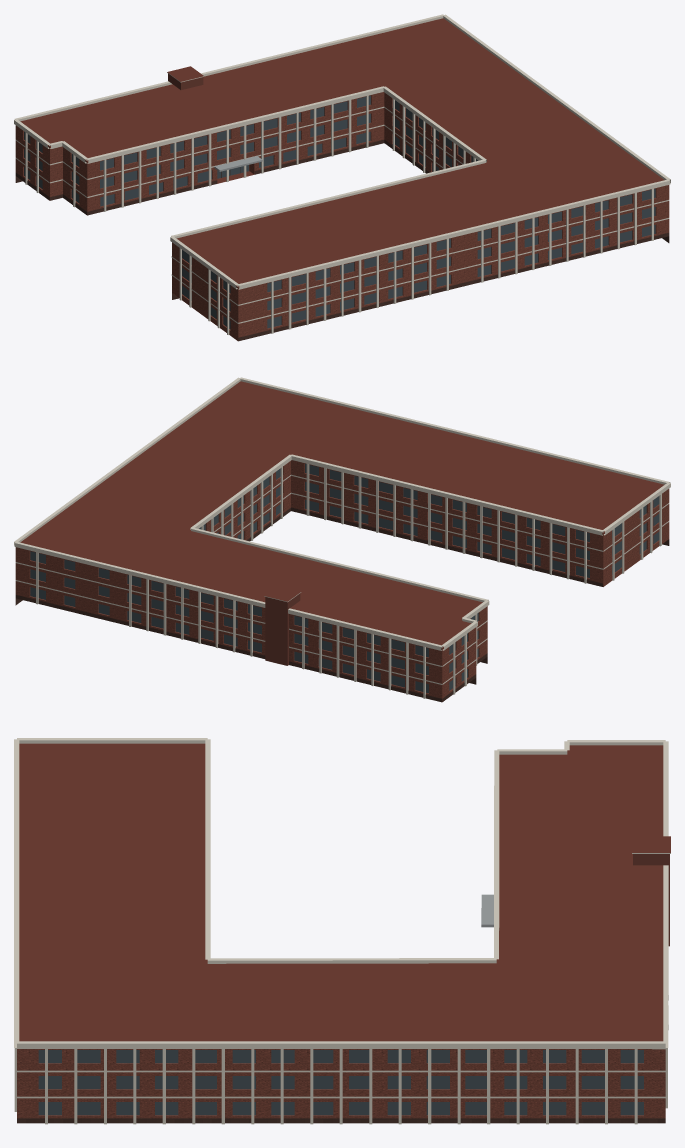
The picture shows the model from 3 angles, top to bottom: view 1: azimuth 30°, elevation 25°; view 2: azimuth 150°, elevation 25°; view 3: azimuth 270°, elevation 25°; orthographic projection. The views are drawn at different scales.
Parts seen in each view (by area): view 1: basicExp__roof, basicExp__wall, basicExp__trim, basicExp__glass, basicExp__base; view 2: basicExp__roof, basicExp__wall, basicExp__trim, basicExp__glass, basicExp__base, basicExp__wall2; view 3: basicExp__roof, basicExp__wall, basicExp__trim, basicExp__glass, basicExp__base, basicExp__wall2.
Part boxes in pixels (x1,y1,x2,y2): basicExp__roof: (20,18,664,294); basicExp__wall: (15,92,669,340); basicExp__trim: (14,14,670,334); basicExp__glass: (24,95,655,329); basicExp__base: (15,139,669,341); basicExp__roof: (20,381,664,648); basicExp__wall: (15,460,669,701); basicExp__trim: (14,377,670,698); basicExp__glass: (30,464,659,693); basicExp__base: (15,507,669,702); basicExp__wall2: (265,593,300,665); basicExp__roof: (19,743,670,1041); basicExp__wall: (17,1049,665,1118); basicExp__trim: (14,738,670,1124); basicExp__glass: (38,1050,643,1115); basicExp__base: (17,1118,665,1123); basicExp__wall2: (633,854,669,946).
Bounding box in the file's own units: 93.37 × 14.85 × 84.88.
9 materials, 2 textured.
